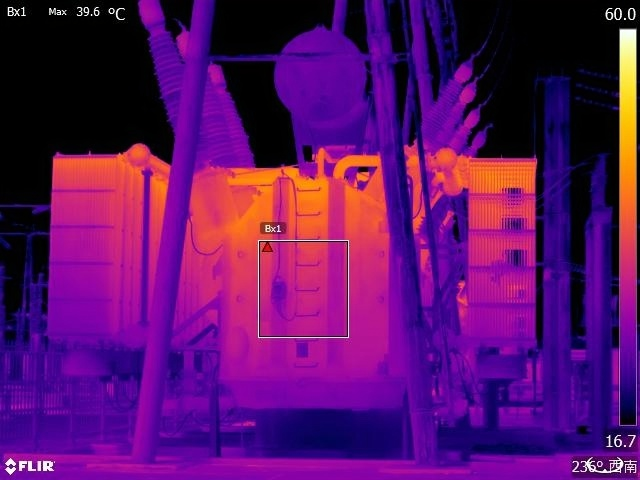oil conservator: (269, 18, 378, 148)
transformer: (43, 144, 200, 362), (449, 148, 544, 376)
tube: (134, 1, 206, 165), (176, 23, 236, 169), (416, 49, 483, 144), (207, 58, 258, 166), (431, 80, 481, 146), (450, 102, 484, 153), (466, 122, 491, 158)
